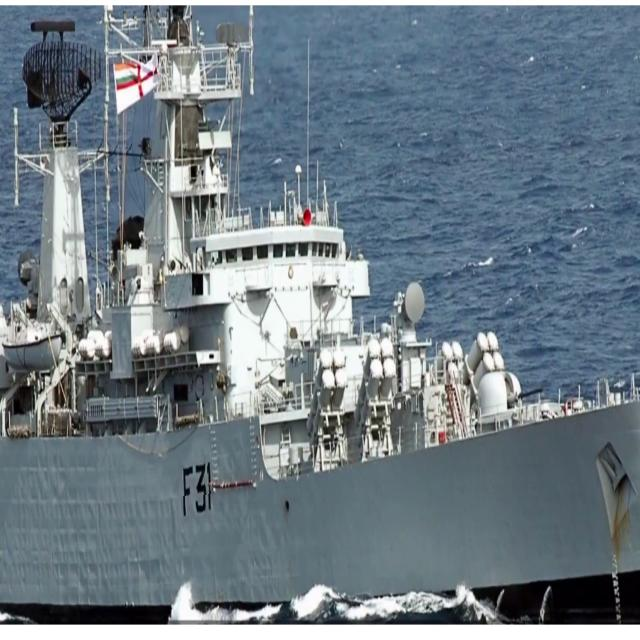OCR: (181, 462, 213, 522)
